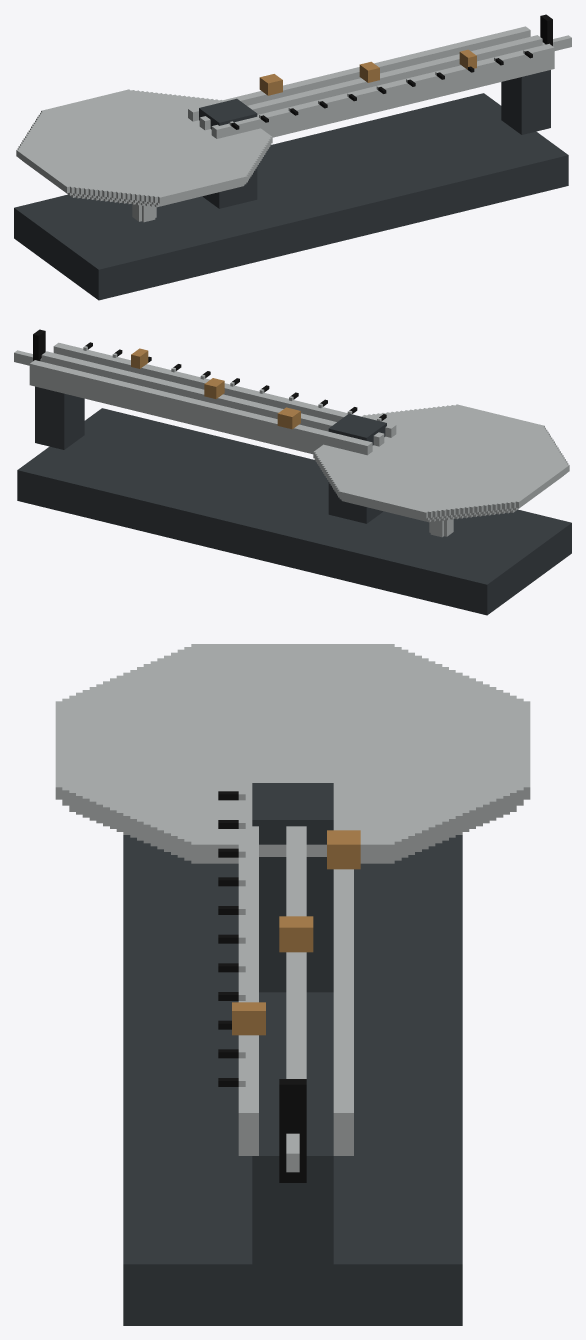
File: balance_small.glb
3 views of the same model, one above another, from view 1: azimuth 30°, elevation 25°; view 2: azimuth 150°, elevation 25°; view 3: azimuth 270°, elevation 25° (orthographic). The views are drawn at different scales.
Visible parts, largest first — view 1: balance_small:compound; view 2: balance_small:compound; view 3: balance_small:compound.
Part boxes in pixels (x1,y1,x2,y2): balance_small:compound: (14,14,571,300); balance_small:compound: (14,329,571,615); balance_small:compound: (55,644,530,1325).
Size of the model in its own units: 0.36 by 0.086 by 0.14.
